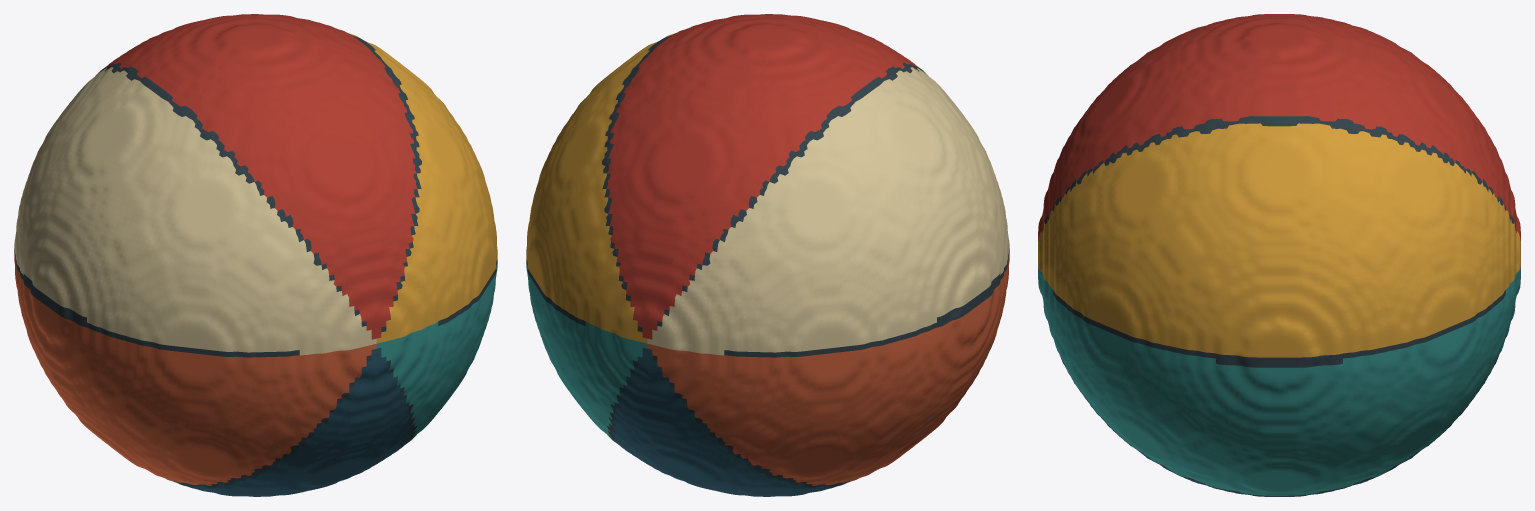
File: beach-ball.glb
The picture shows the model from 3 angles, left to right: view 1: azimuth 30°, elevation 25°; view 2: azimuth 150°, elevation 25°; view 3: azimuth 270°, elevation 25°; orthographic projection.
Parts seen in each view (by area): view 1: __playground; view 2: __playground; view 3: __playground.
Boxes of the visible parts, bbox=[...] form: __playground: bbox=[14, 14, 497, 496]; __playground: bbox=[526, 14, 1009, 496]; __playground: bbox=[1038, 14, 1520, 496].
Bounding box in the file's own units: 2.15 × 2.15 × 2.15.
